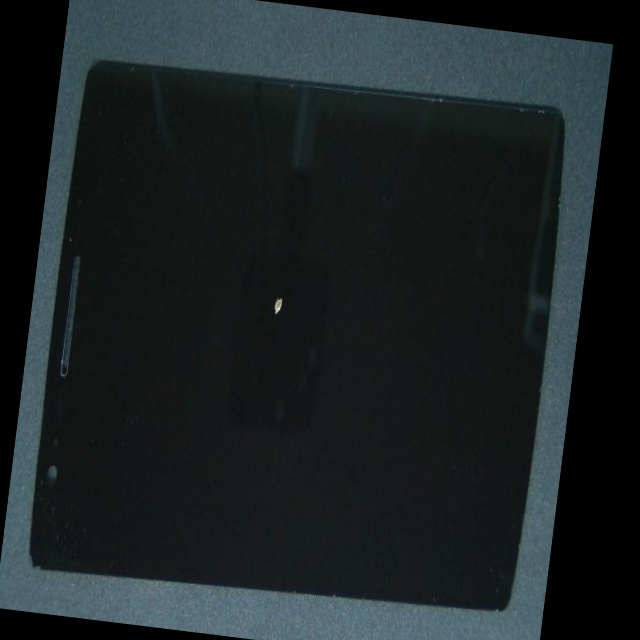stain: (153, 94, 419, 435)
